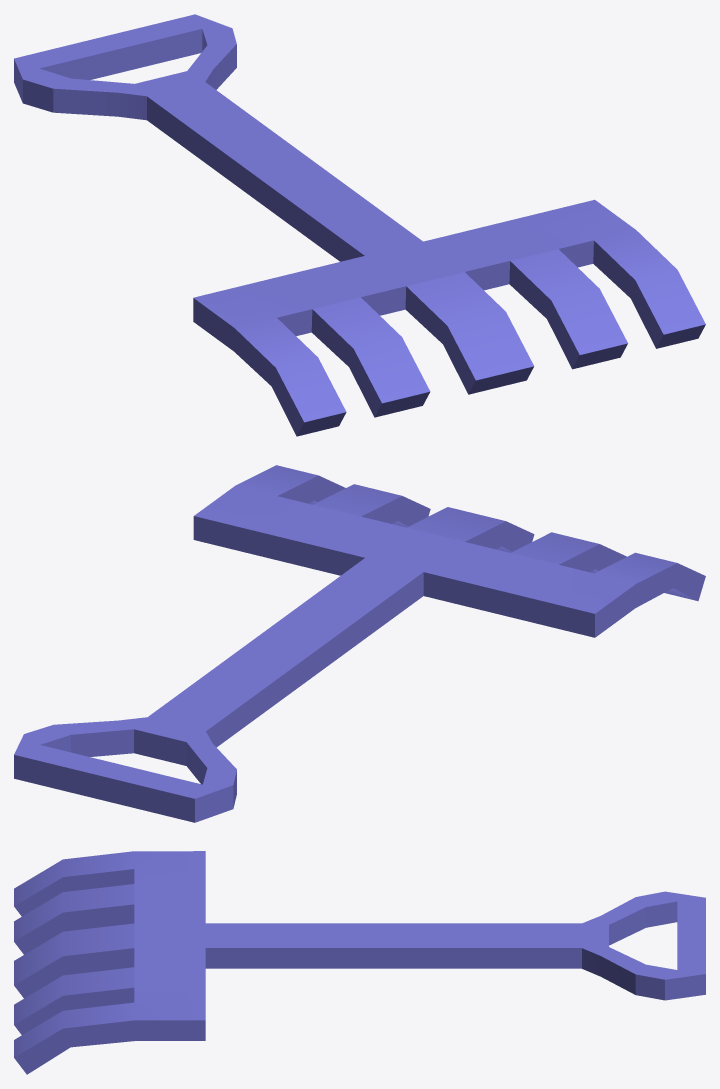
File: RastrilloCincoDientes.fbx
3 renders of one model, top to bottom at view 1: azimuth 30°, elevation 25°; view 2: azimuth 150°, elevation 25°; view 3: azimuth 270°, elevation 25°, orthographic. The views are drawn at different scales.
Visible parts, largest first — view 1: rastrillo_5_dientes; view 2: rastrillo_5_dientes; view 3: rastrillo_5_dientes.
Boxes of the visible parts, bbox=[...] form: rastrillo_5_dientes: bbox=[14, 14, 705, 436]; rastrillo_5_dientes: bbox=[14, 465, 705, 822]; rastrillo_5_dientes: bbox=[14, 851, 705, 1074].
Size of the model in its own units: 5.21 by 0.7826 by 9.
